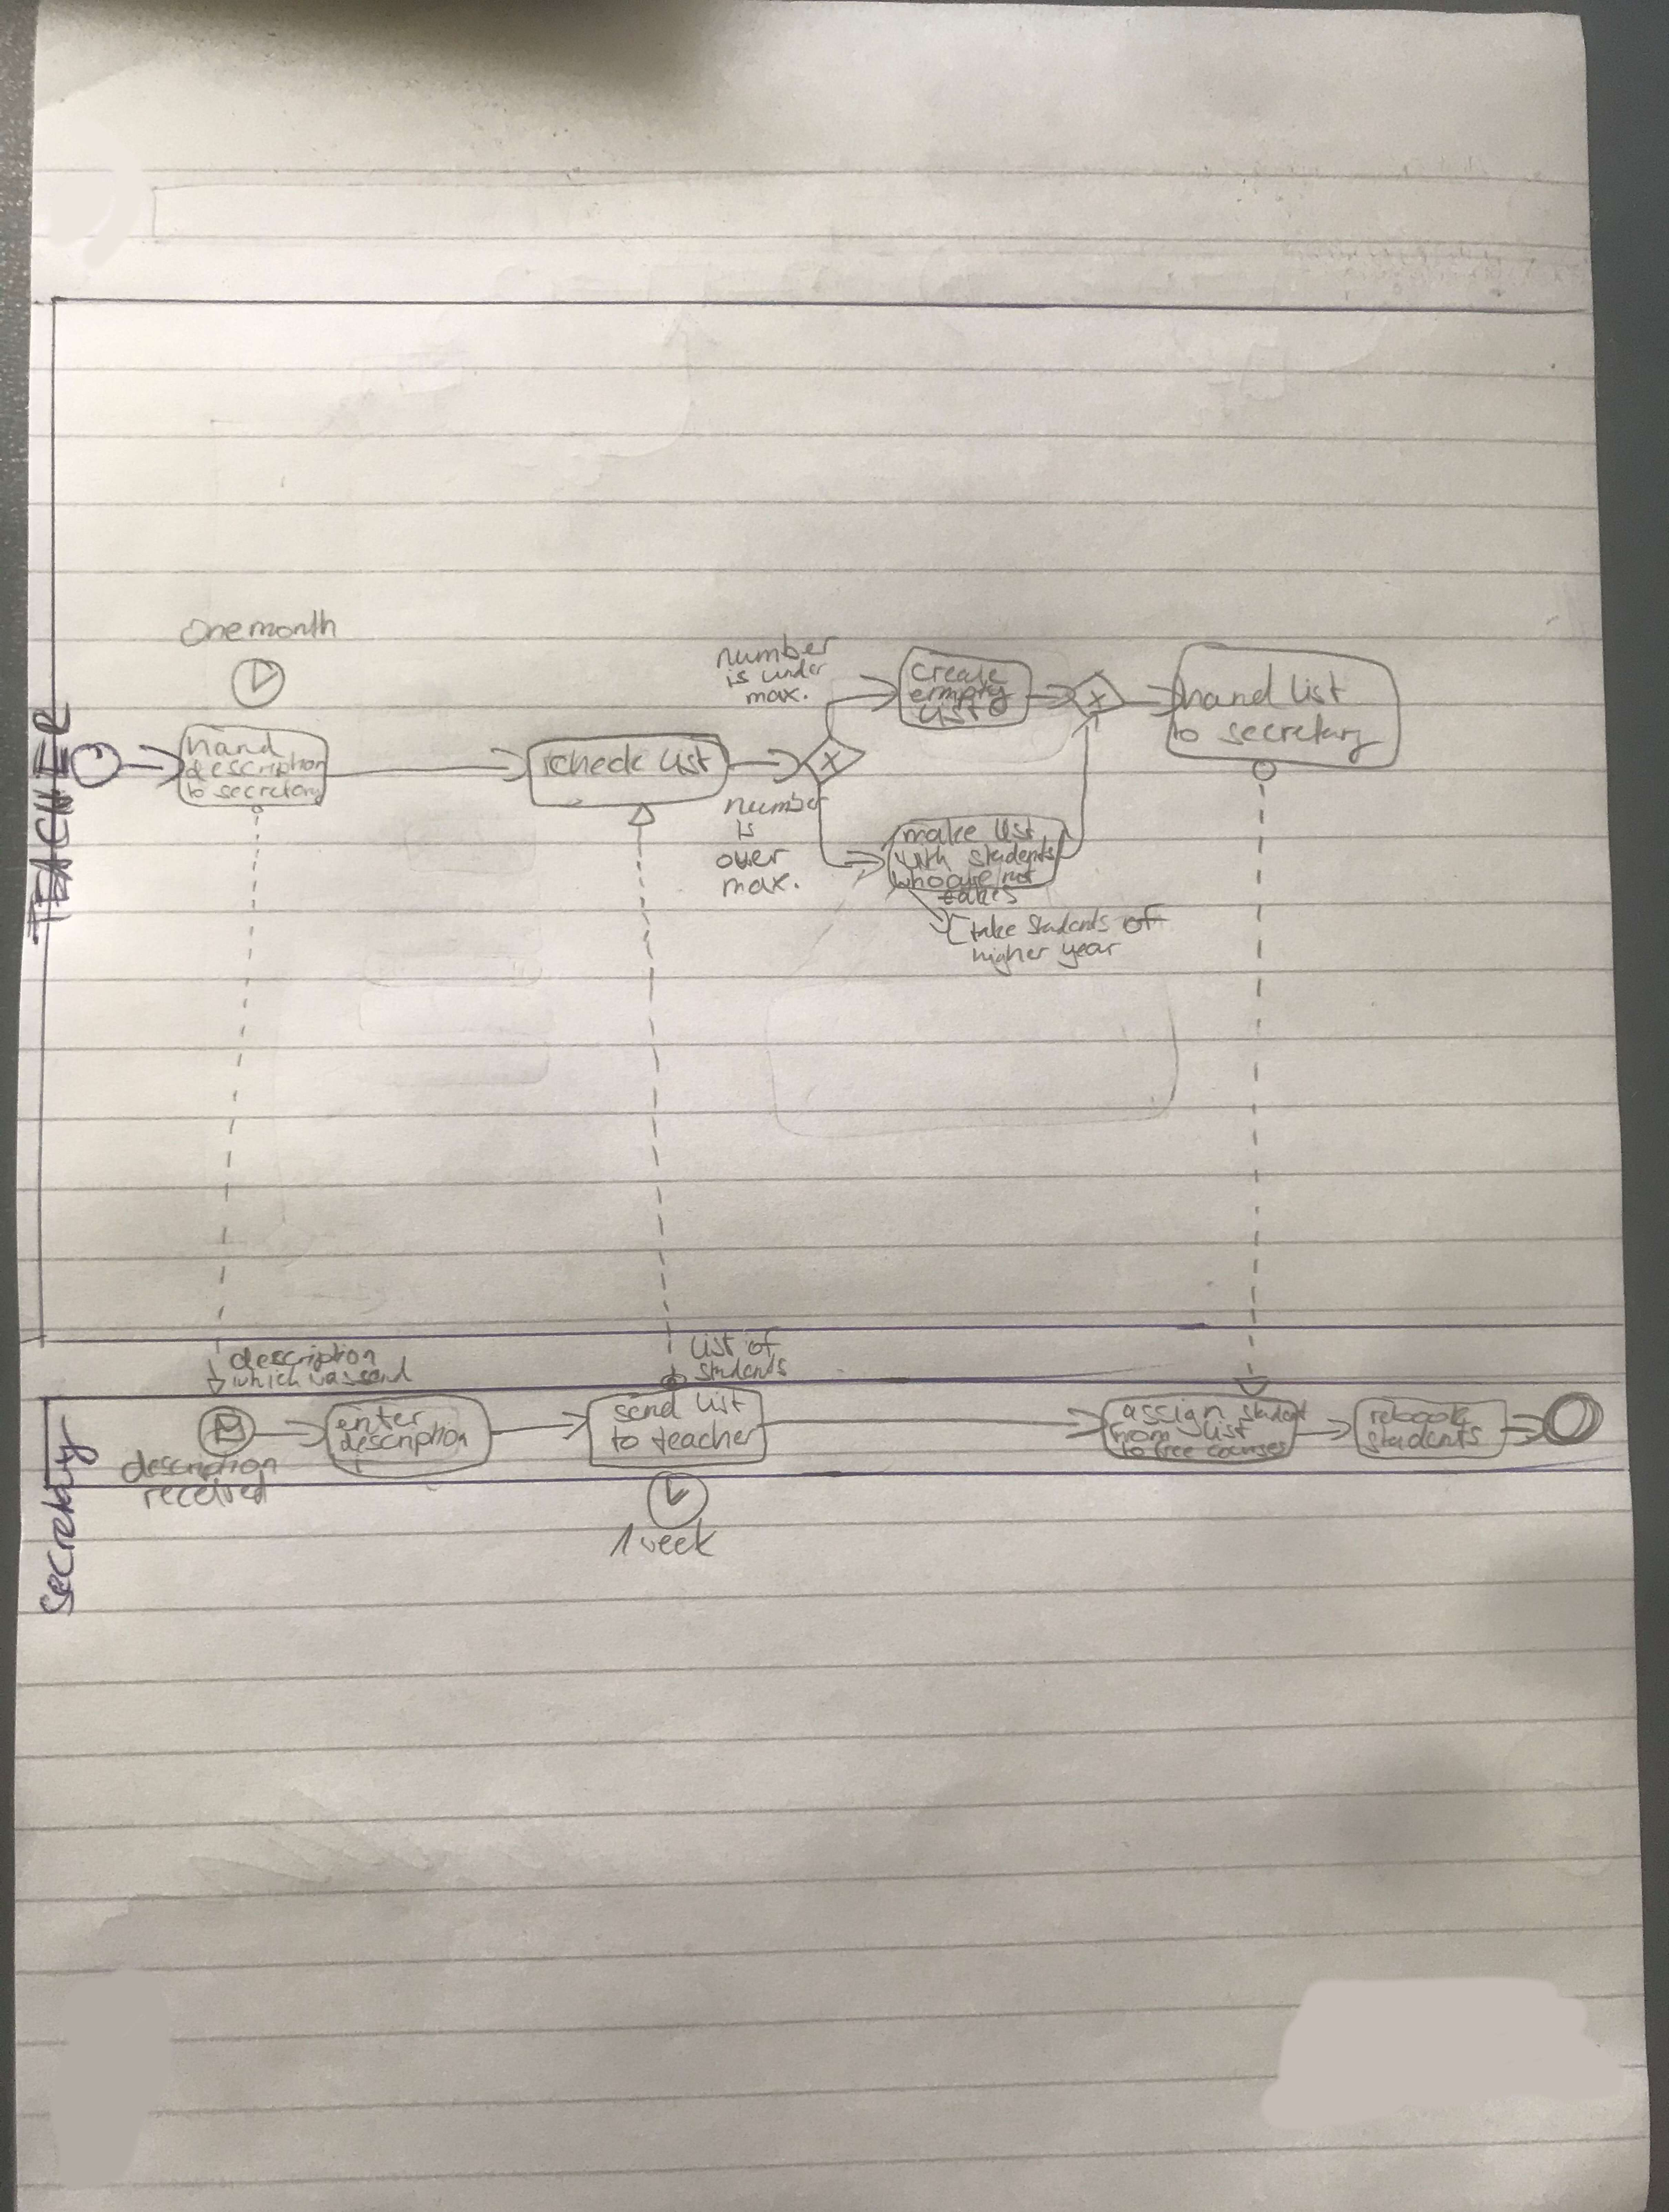1: (608, 1522, 635, 1560)
From: (1107, 1422, 1174, 1443)
One: (179, 612, 244, 650)
TEACHER: (29, 700, 76, 945)
are: (946, 870, 994, 889)
assign: (1119, 1399, 1226, 1425)
check: (542, 743, 643, 780)
courses: (1203, 1440, 1289, 1461)
create: (909, 660, 1007, 685)
description: (122, 1449, 281, 1485), (184, 751, 326, 780), (223, 1343, 380, 1368), (338, 1430, 468, 1457)
empty: (908, 682, 1012, 709)
enter: (336, 1406, 426, 1433)
free: (1152, 1438, 1196, 1461)
hand: (1178, 665, 1274, 711), (181, 731, 286, 760)
higher: (971, 945, 1050, 976)
is: (719, 667, 755, 692), (735, 818, 757, 842)
list: (1287, 668, 1345, 710), (658, 745, 709, 776), (919, 700, 980, 725), (693, 1388, 744, 1417), (993, 816, 1039, 845), (1200, 1419, 1250, 1443), (688, 1333, 736, 1359)
make: (904, 820, 978, 845)
max.: (718, 871, 801, 900), (746, 686, 809, 710)
month: (245, 606, 354, 645)
not: (1001, 863, 1036, 887)
number: (713, 632, 843, 671), (723, 792, 832, 817)
of: (1124, 902, 1169, 935), (746, 1327, 781, 1357)
over: (713, 844, 791, 872)
rebook: (1366, 1402, 1471, 1425)
received: (139, 1476, 268, 1511)
secretary: (34, 1413, 99, 1618), (1219, 713, 1383, 762), (212, 779, 325, 804)
send: (612, 1393, 682, 1423), (354, 1364, 408, 1391)
student: (1239, 1400, 1310, 1424)
students: (1364, 1425, 1484, 1455), (968, 838, 1057, 867), (1026, 909, 1111, 938), (694, 1356, 790, 1381)
take: (970, 914, 1016, 942)
takes: (938, 885, 1018, 908)
teacher: (651, 1421, 759, 1455)
to: (611, 1426, 641, 1452), (1171, 718, 1201, 745), (184, 780, 209, 801), (1120, 1442, 1145, 1459)
under: (761, 663, 827, 686)
was: (308, 1368, 354, 1389)
week: (639, 1518, 717, 1557)
which: (232, 1367, 302, 1390)
who: (892, 869, 944, 887)
with: (895, 846, 953, 873)
year: (1055, 938, 1124, 971)
